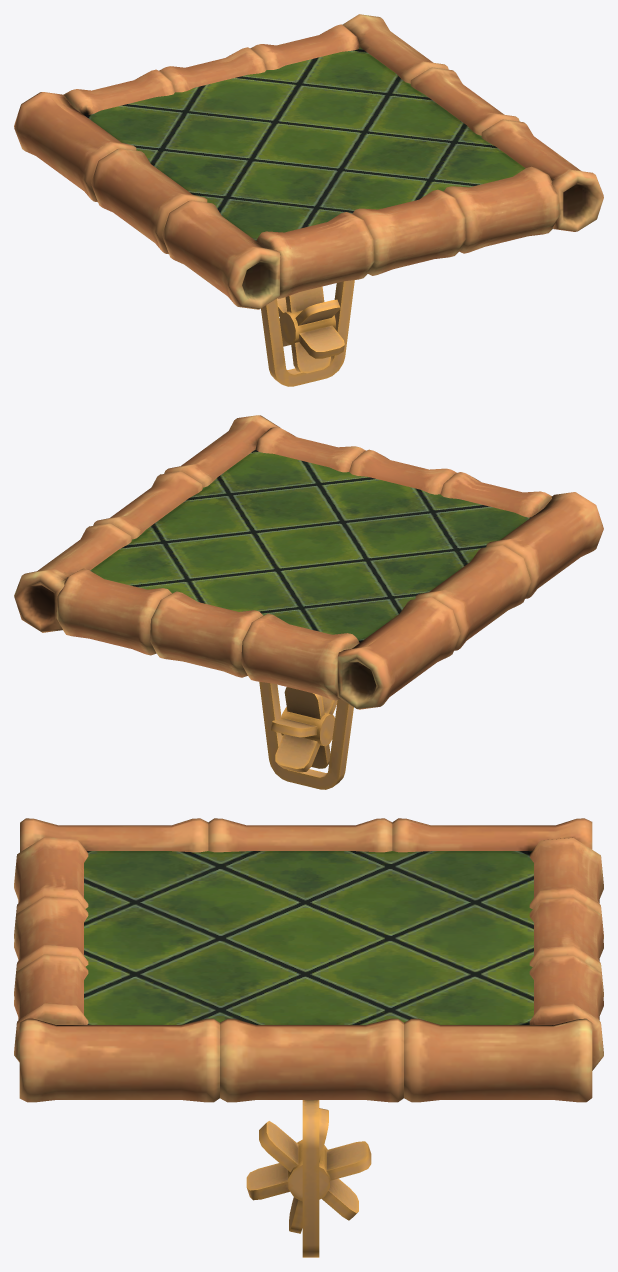
Rendered from PLATFORM.fbx.
3 renders of one model, top to bottom at view 1: azimuth 30°, elevation 25°; view 2: azimuth 150°, elevation 25°; view 3: azimuth 270°, elevation 25°, orthographic. The views are drawn at different scales.
Parts seen in each view (by area): view 1: AnyConv_com__Platform, AnyConv_com__Platform.001; view 2: AnyConv_com__Platform, AnyConv_com__Platform.001; view 3: AnyConv_com__Platform, AnyConv_com__Platform.001.
Boxes of the visible parts, x1,y1,x2,y2 form: AnyConv_com__Platform: (14, 14, 603, 386); AnyConv_com__Platform.001: (277, 286, 344, 373); AnyConv_com__Platform: (14, 415, 603, 789); AnyConv_com__Platform.001: (271, 687, 337, 772); AnyConv_com__Platform: (14, 818, 603, 1257); AnyConv_com__Platform.001: (246, 1108, 371, 1233).
Bounding box in the file's own units: 4016 × 2560 × 4232.
Materials: 1 (1 with a texture image).
